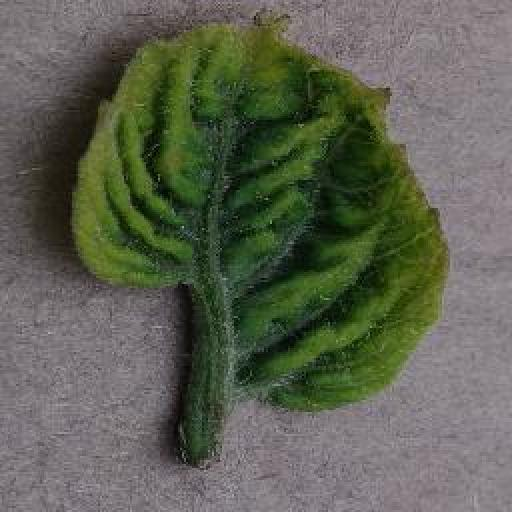Yellow Leaf Curl Virus: (67, 9, 454, 416)
